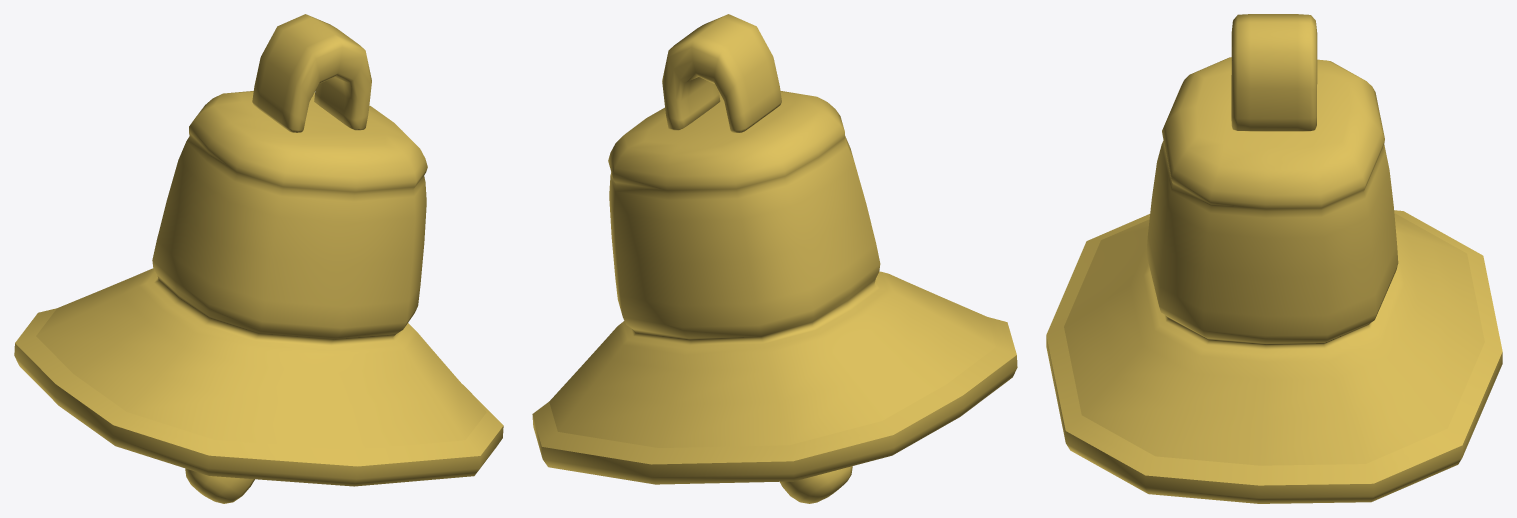
File: Cloche 2.fbx
The picture shows the model from 3 angles, left to right: view 1: azimuth 30°, elevation 25°; view 2: azimuth 150°, elevation 25°; view 3: azimuth 270°, elevation 25°; orthographic projection. The views are drawn at different scales.
Visible parts, largest first — view 1: Cloche.001; view 2: Cloche.001; view 3: Cloche.001.
Part boxes in pixels (box(x1,y1,x2,y2)): Cloche.001: box(14, 14, 503, 503); Cloche.001: box(532, 14, 1017, 503); Cloche.001: box(1046, 14, 1502, 503).
Bounding box in the file's own units: 12.03 × 13.1 × 11.75.
